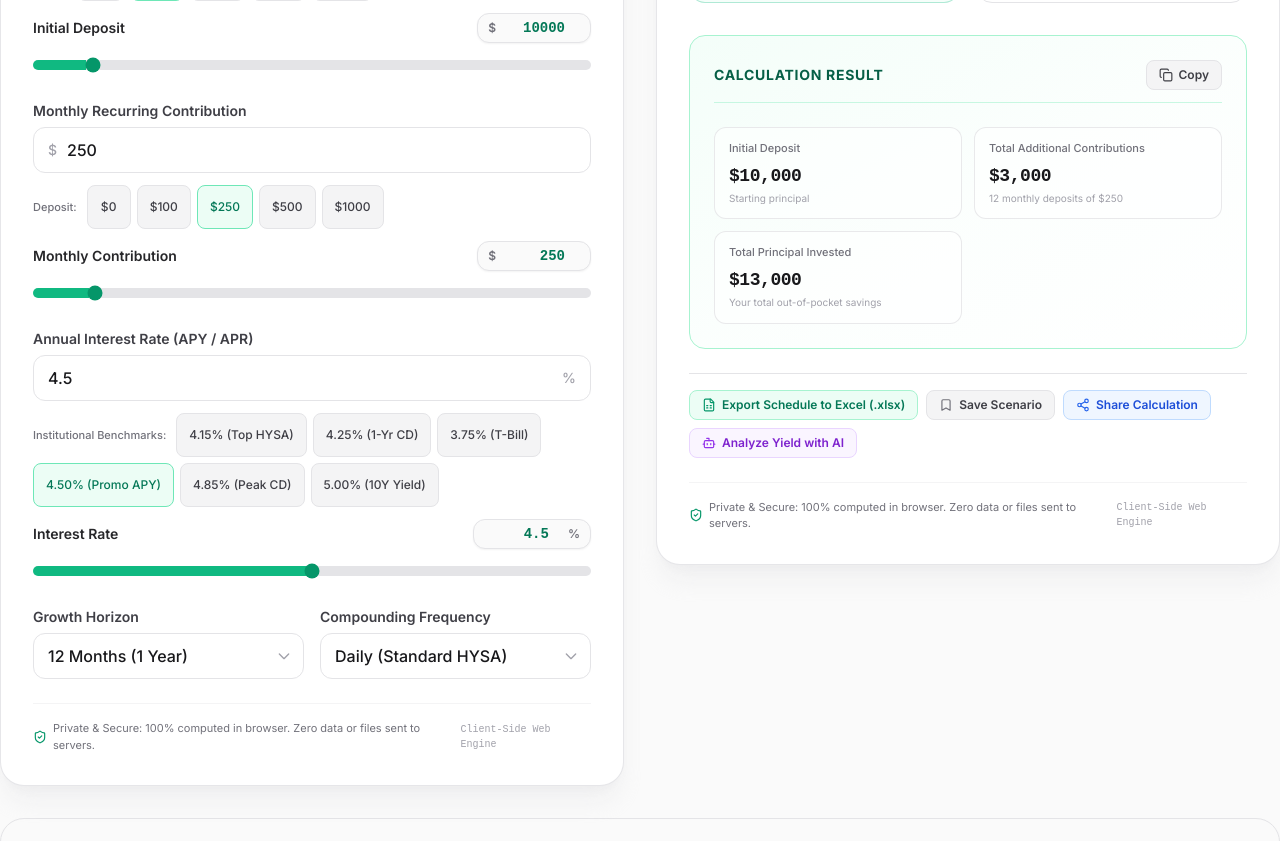
Test: SavingsCdCalculator › updates rate when 1-click institutional preset button is clicked
This screenshot has width=1280, height=841.
(page scrolled)
Click the button "4.15% (Top HYSA)": {"x": 242, "y": 435} [176,413,307,457]
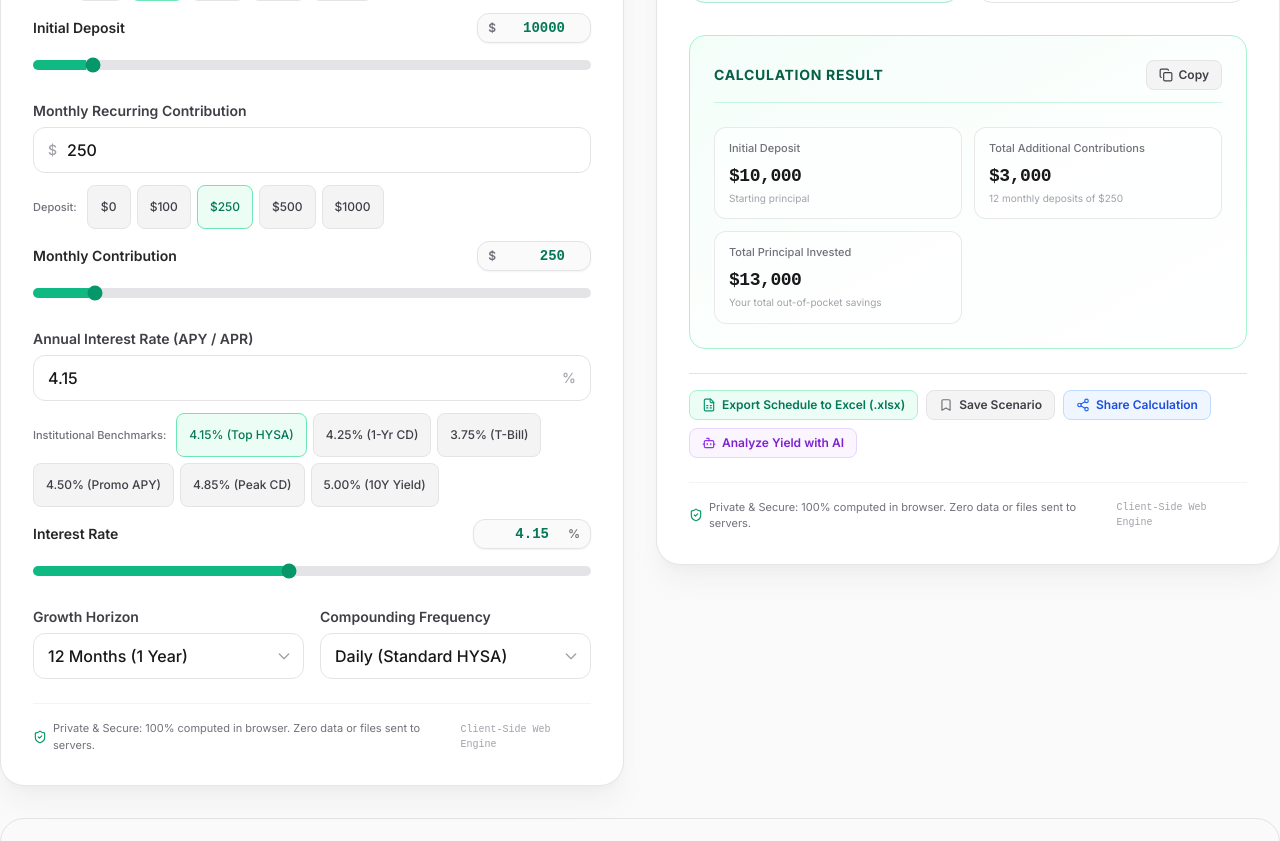
Now the number field labelled "Annual Interest Rate (APY / APR)" holds "4.15", box [34,356,556,400]
